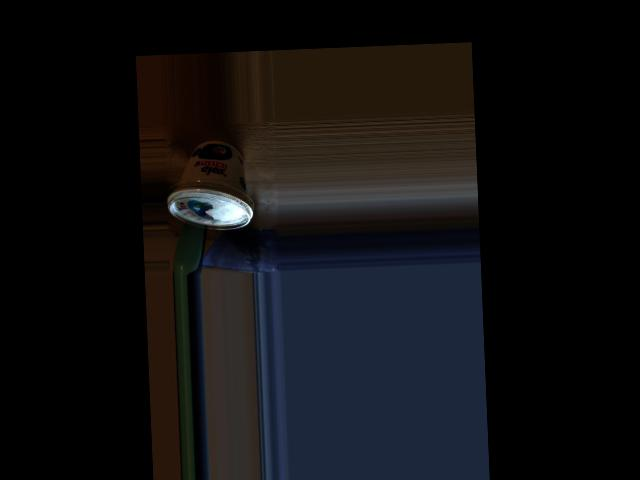cotage: (175, 145, 249, 231)
